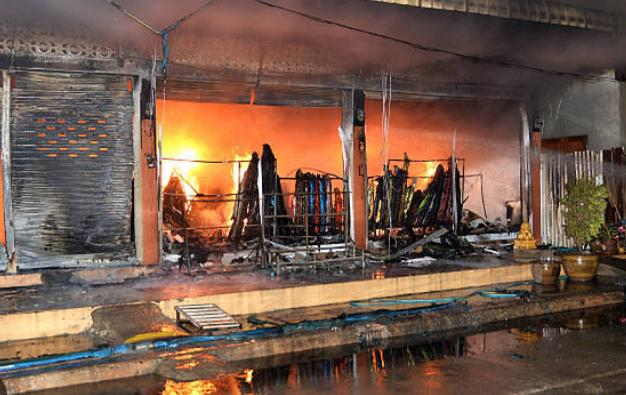fire: (155, 100, 282, 268), (377, 145, 473, 193)
smoke: (90, 3, 591, 111)
